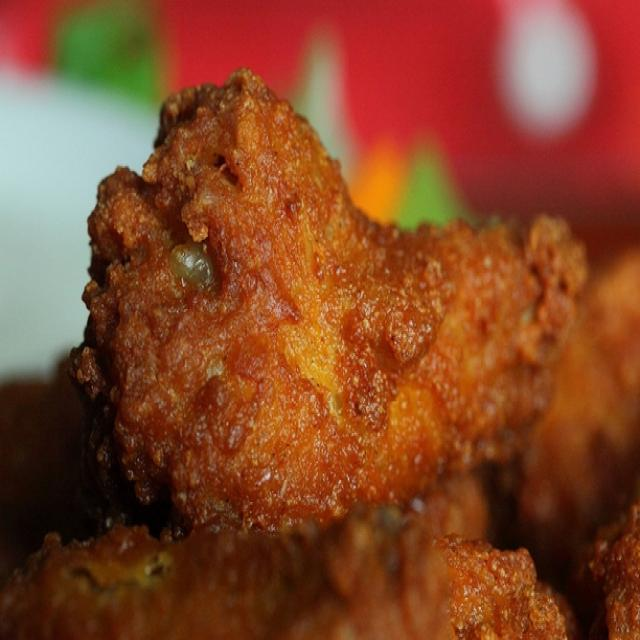Deep fried chicken wing: (86, 71, 576, 545)
